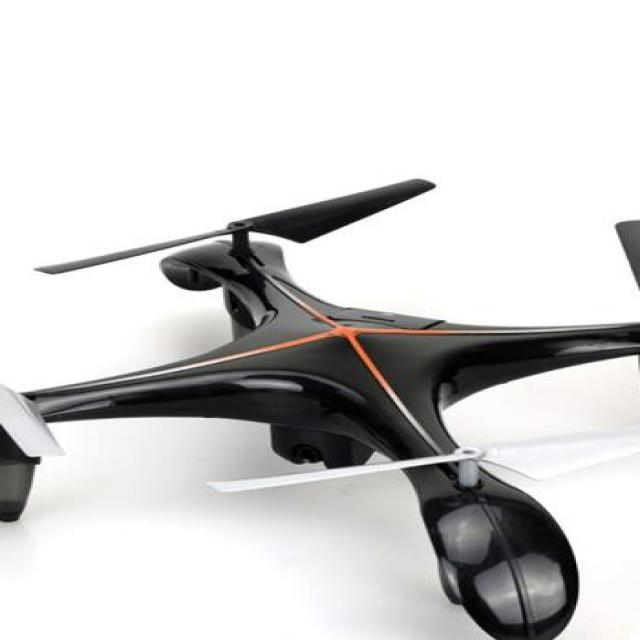drone: (0, 186, 640, 634)
